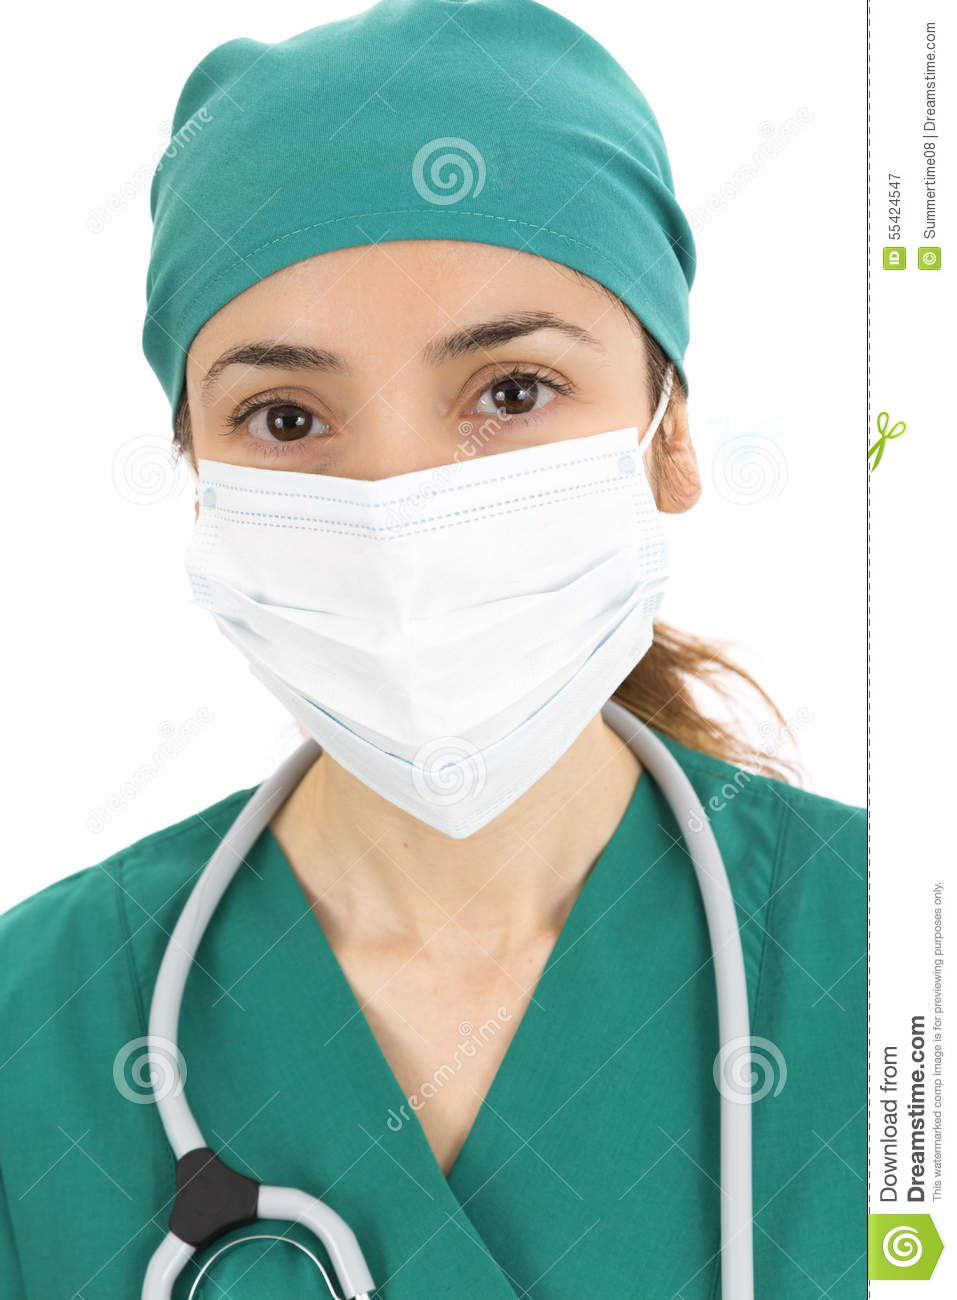with_mask_and_cap: (166, 10, 698, 821)
